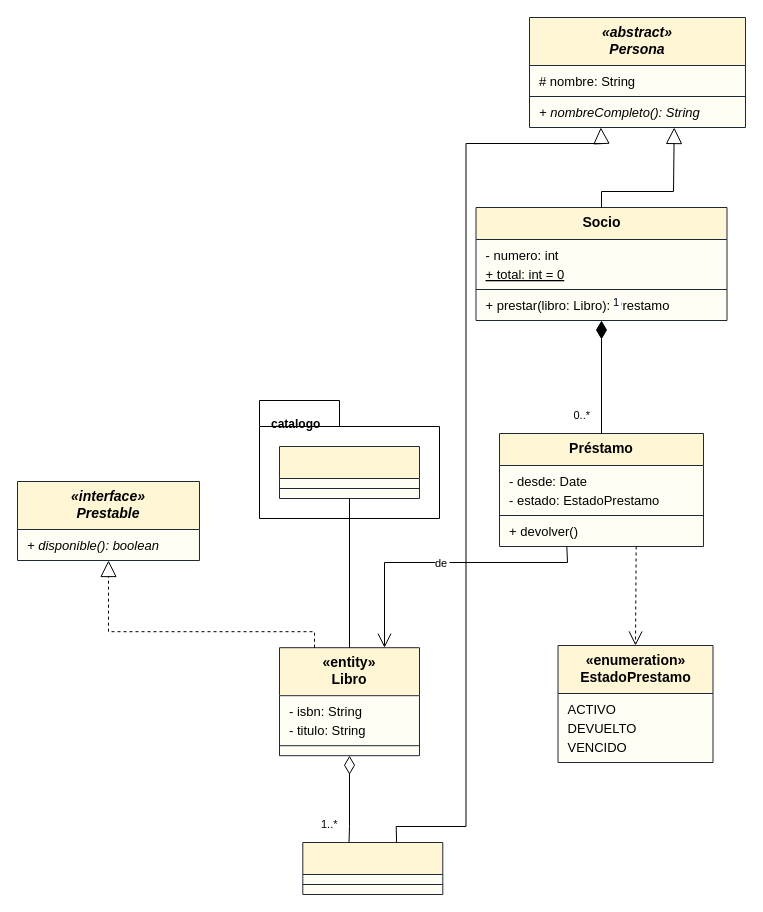
This 763x912 diagram has some shape labels left out. The shapes that lost their labels are listed below. From the top down, each one's centre as x and y in pixels, then its label:
At point 349,472: "Ejemplar".
At point 372,868: "Autor".
